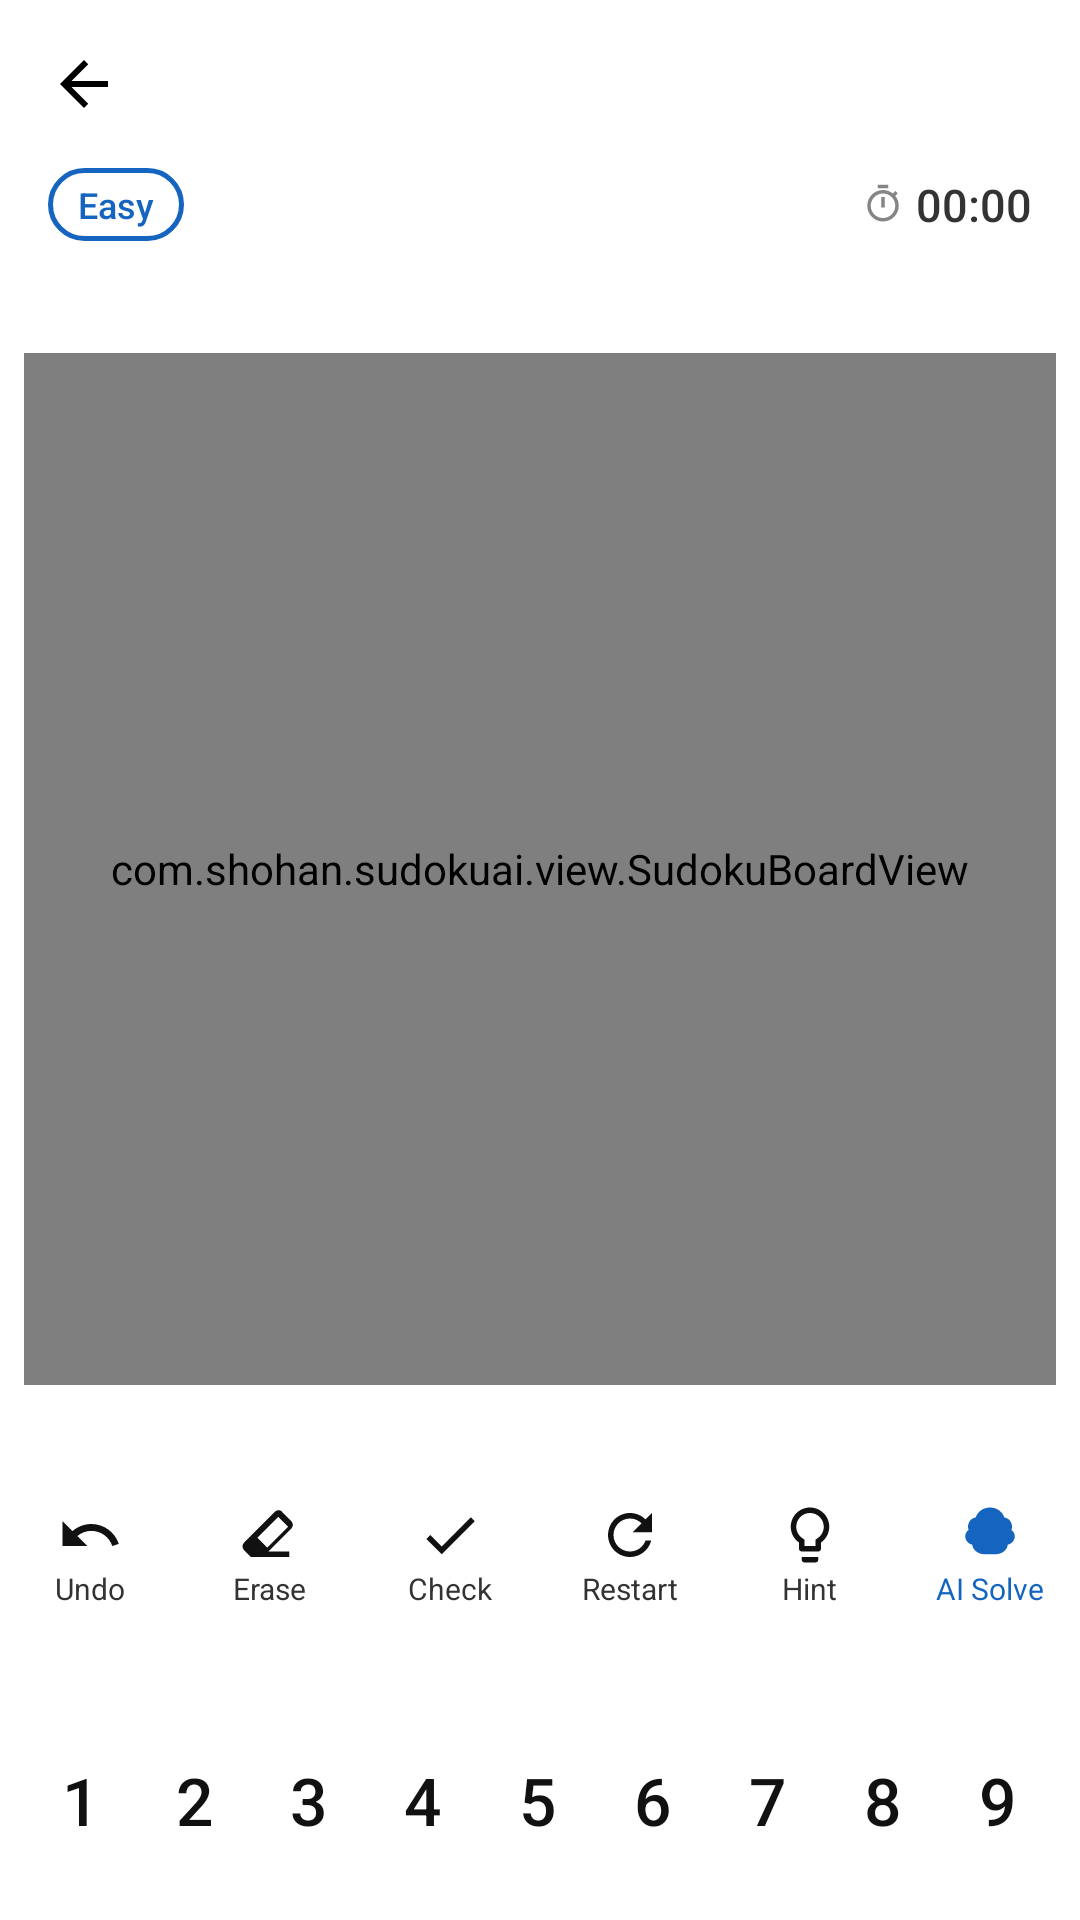

Icons on this 1080x1920 Android screen, each with the point to tap as (x=x, y=y):
Timer: (x=883, y=203)
